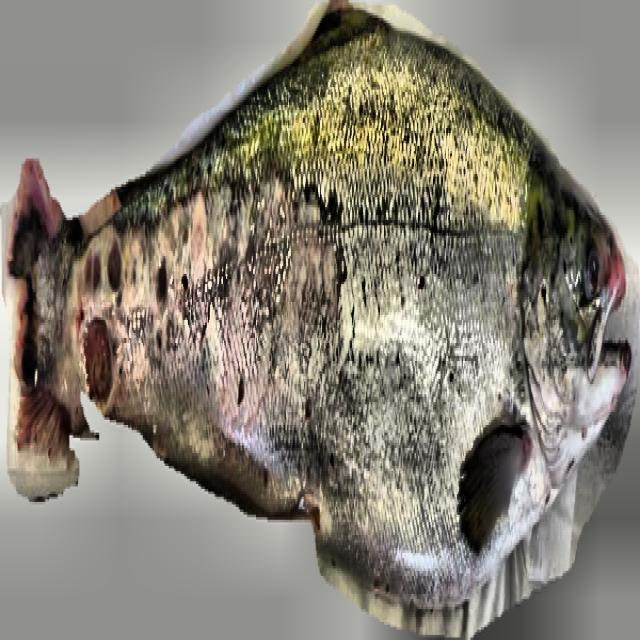mild_red: (100, 10, 544, 604)
wound: (84, 320, 112, 402), (107, 241, 121, 292), (85, 259, 100, 292), (157, 261, 167, 297)
